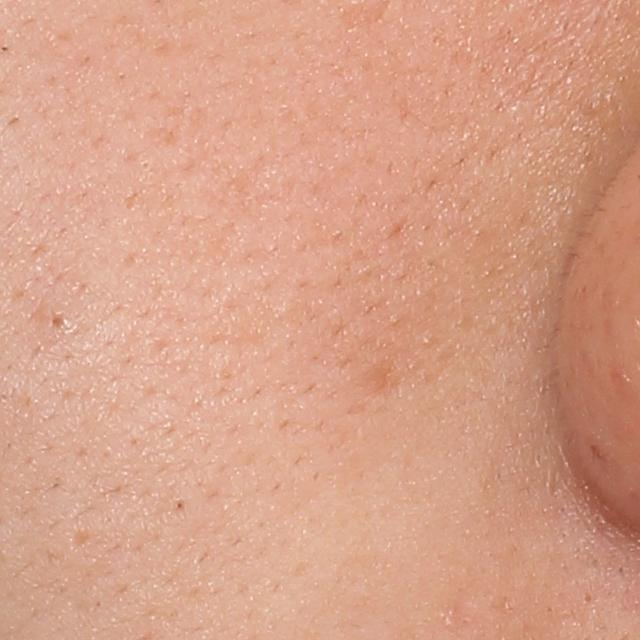comedo: (172, 500, 185, 514)
